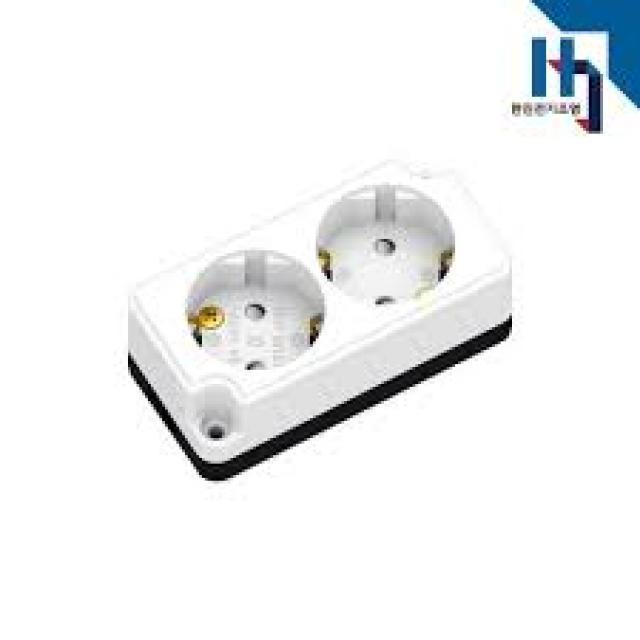typeb: (118, 118, 572, 502)
